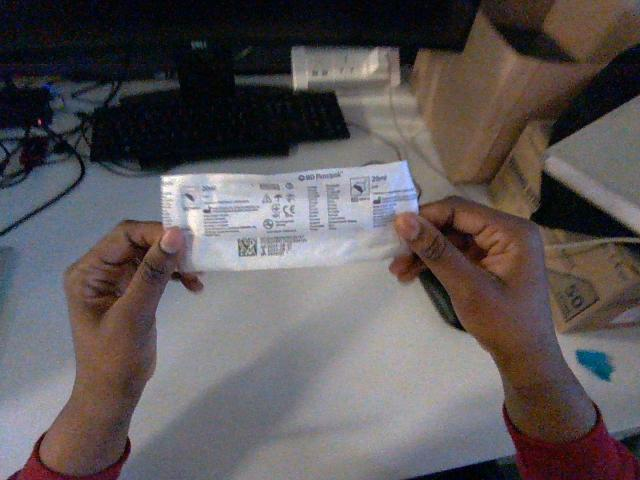syringe: (162, 162, 417, 270)
